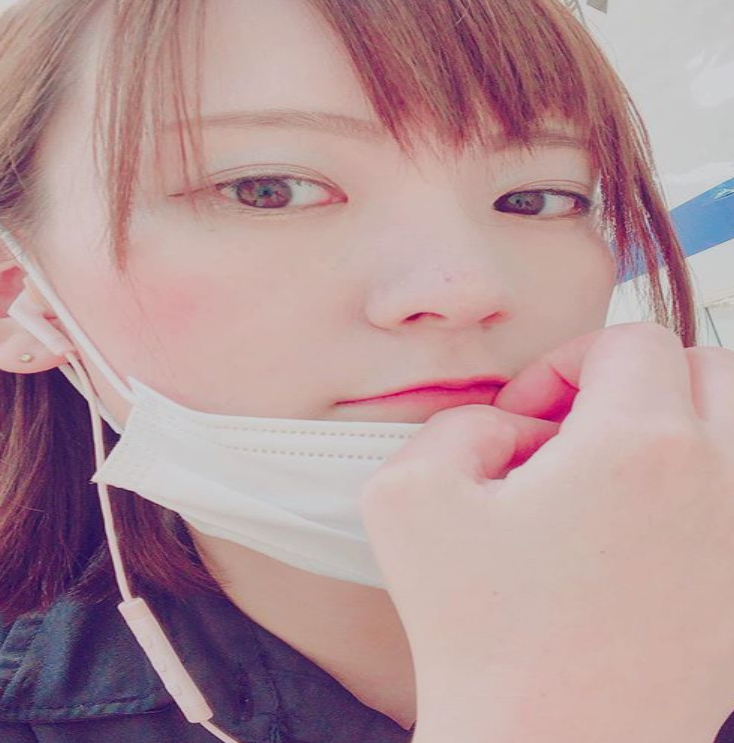mask_weared_incorrect: (1, 1, 624, 575)
